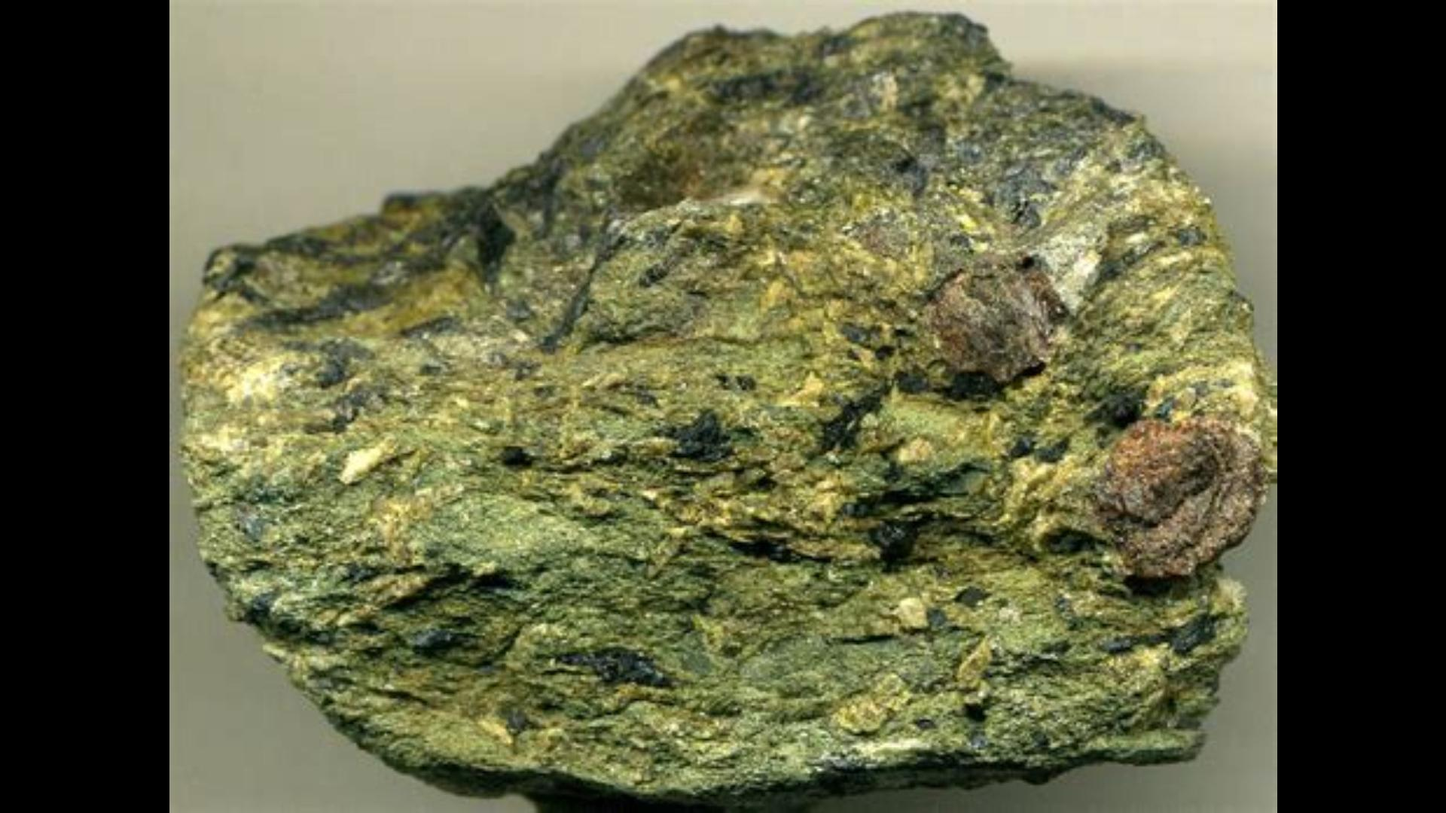rock: (180, 19, 1274, 799)
